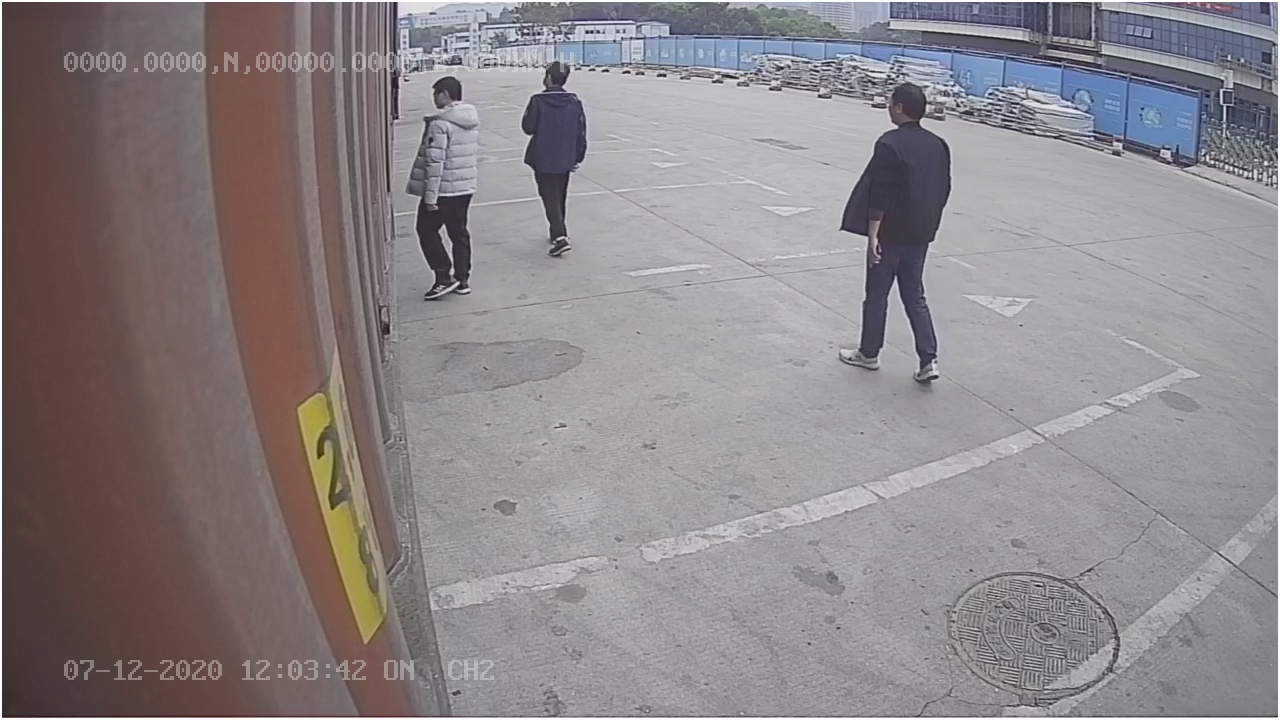person: (836, 79, 966, 383), (415, 75, 494, 301)
